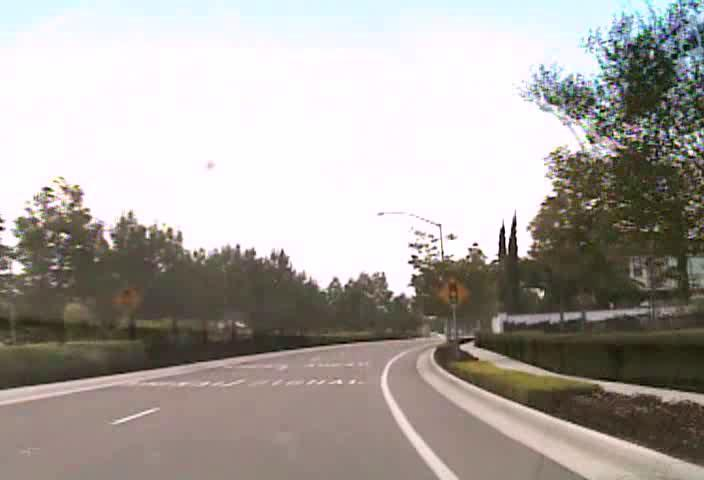signalAhead: (109, 283, 143, 315)
